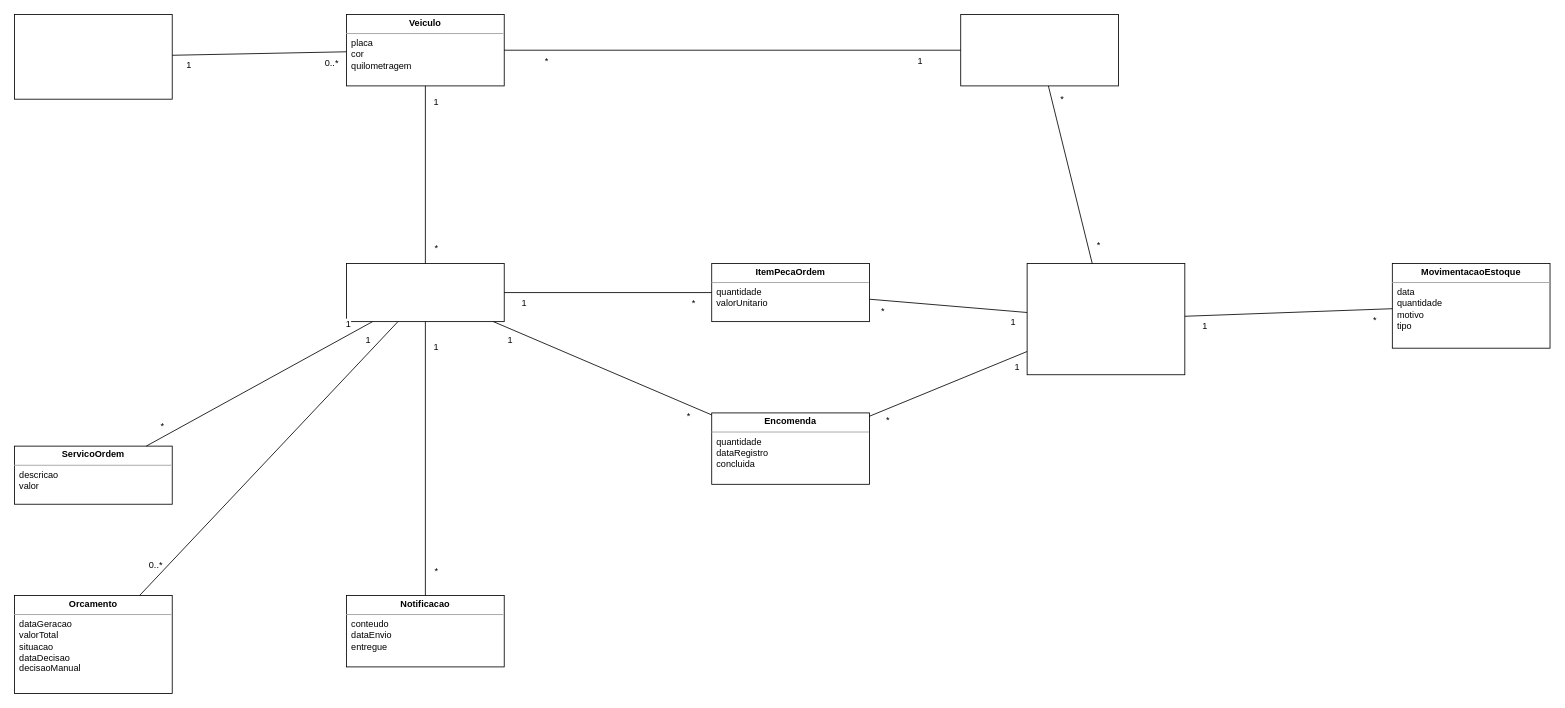
Some shapes in this 1565 by 708 pixel diagram are drawn without their labels. Here are the shapes that lost their labels. From the top down, the centre of each, then its label:
At point (93, 56): "Cliente nome cpf telefone whatsapp".
At point (1039, 50): "ModeloVeiculo marca modelo ano".
At point (425, 292): "OrdemServico dataAbertura status".
At point (1105, 319): "Peca codigo nome categoria preco quantidadeEstoque estoqueMinimo".
